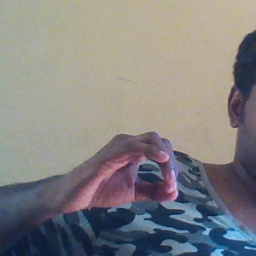O: (66, 130, 192, 218)
